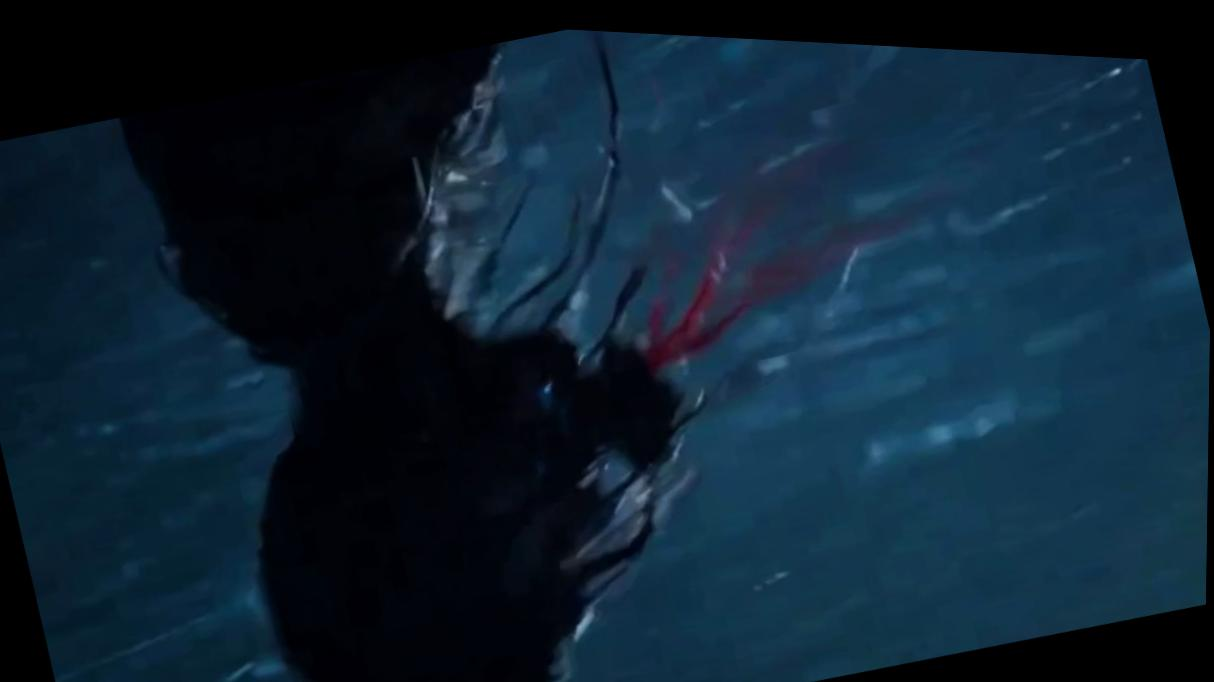Fire: (646, 106, 915, 363)
